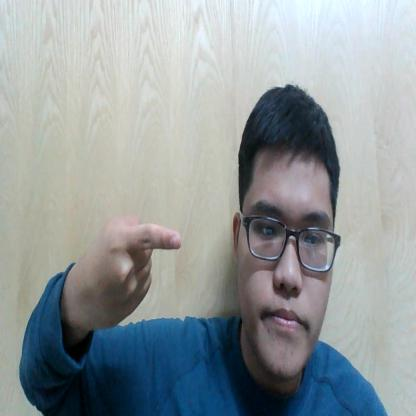left: (77, 213, 189, 332)
